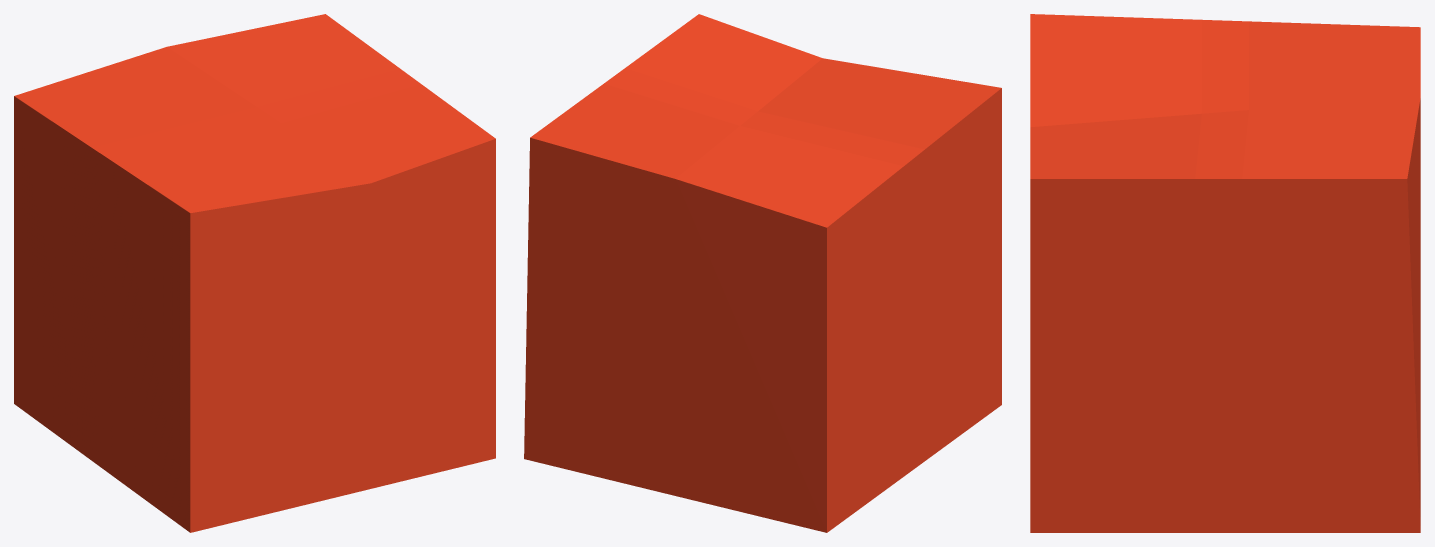
Rendered from SM_Box_A_City.fbx.
3 views of the same model, side by side, from view 1: azimuth 30°, elevation 25°; view 2: azimuth 150°, elevation 25°; view 3: azimuth 270°, elevation 25° (orthographic). The views are drawn at different scales.
Visible parts, largest first — view 1: SM_Box_A_City; view 2: SM_Box_A_City; view 3: SM_Box_A_City.
Part boxes in pixels (<box>): SM_Box_A_City: <box>14,14,495,532</box>; SM_Box_A_City: <box>524,14,1001,532</box>; SM_Box_A_City: <box>1030,14,1420,532</box>.
Size of the model in its own units: 0.41 by 0.41 by 0.41.
